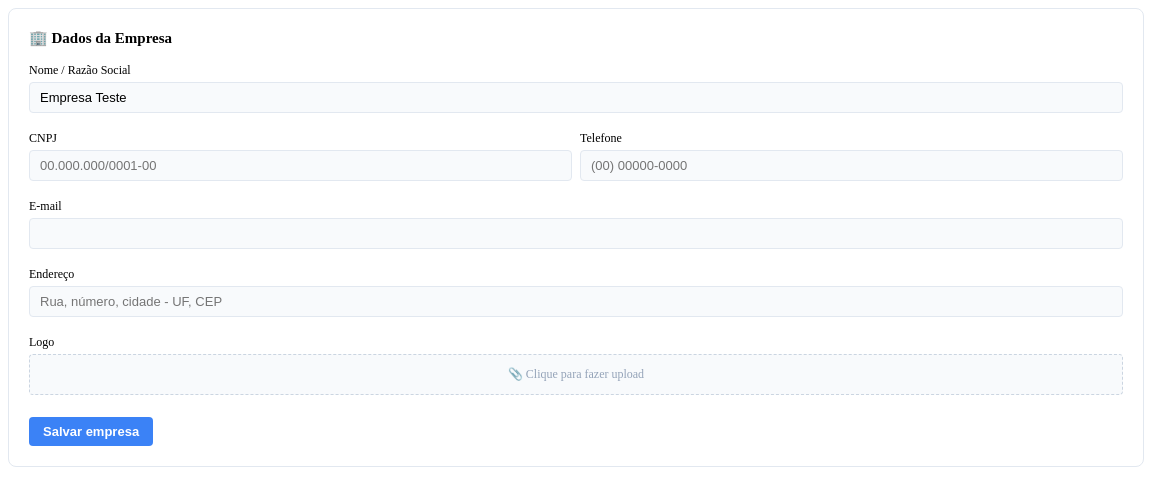
Test: EmpresaCard — máscara de CNPJ › formats CNPJ as user types
The width and height of the screenshot is (1152, 484).
Type "11222333000181" into the field with placeholder "00.000.000/0001-00". click: (300, 166)
box: [29,150,572,181]
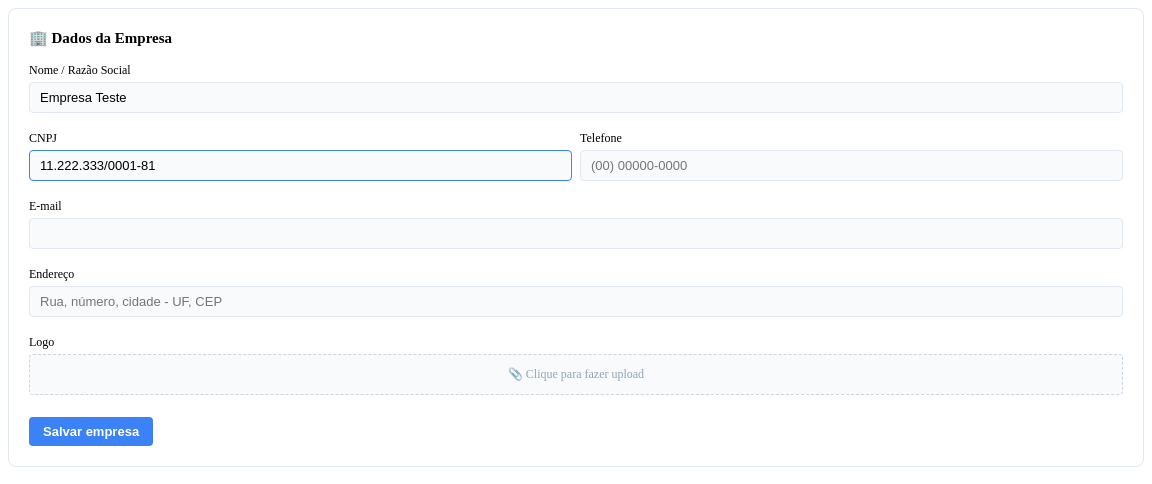
Expected: the field with placeholder "00.000.000/0001-00" below "CNPJ" holds "11.222.333/0001-81", [29,150,572,181]
